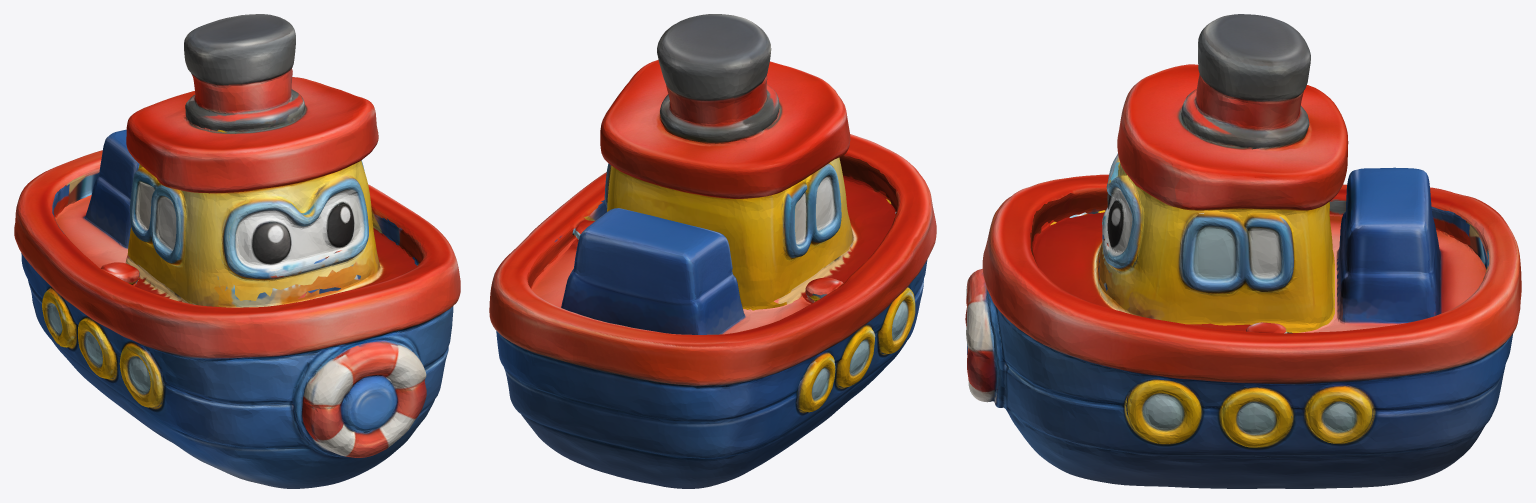
File: 5bd5fe67-f72b-4c3f-919e-e20beb967126-textured.glb
The picture shows the model from 3 angles, left to right: view 1: azimuth 30°, elevation 25°; view 2: azimuth 150°, elevation 25°; view 3: azimuth 270°, elevation 25°; orthographic projection. The views are drawn at different scales.
Visible parts, largest first — view 1: tmpegmbsi74.ply; view 2: tmpegmbsi74.ply; view 3: tmpegmbsi74.ply.
Part boxes in pixels (bbox=[...]): tmpegmbsi74.ply: bbox=[14, 14, 460, 488]; tmpegmbsi74.ply: bbox=[489, 14, 936, 488]; tmpegmbsi74.ply: bbox=[965, 14, 1521, 488].
Bounding box in the file's own units: 0.7241 × 0.8563 × 0.9997.
Materials: 1 (1 with a texture image).
